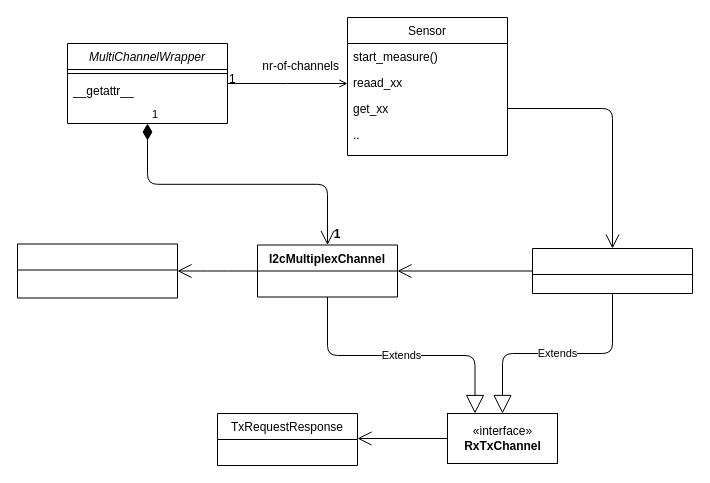
This 710x483 diagram has some shape labels left out. Each missing label, with the box of its shape:
I2cConnection: (16, 243, 178, 298)
SyncChannel: (532, 248, 692, 294)
